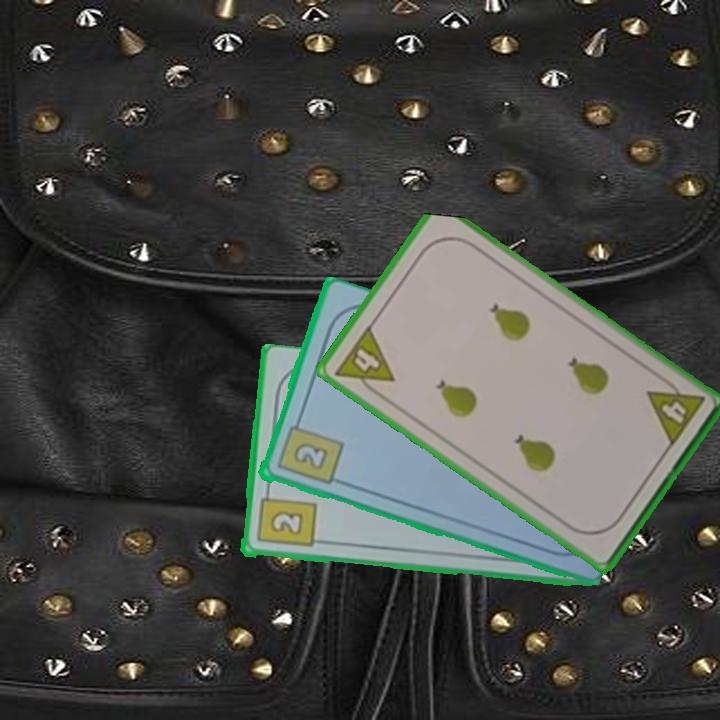2b: (273, 414, 345, 488), (253, 485, 318, 551)
4p: (330, 322, 397, 402), (643, 372, 707, 450)
